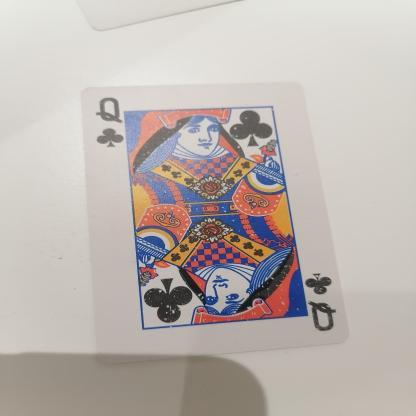QC: (296, 264, 343, 337), (86, 94, 135, 156)
